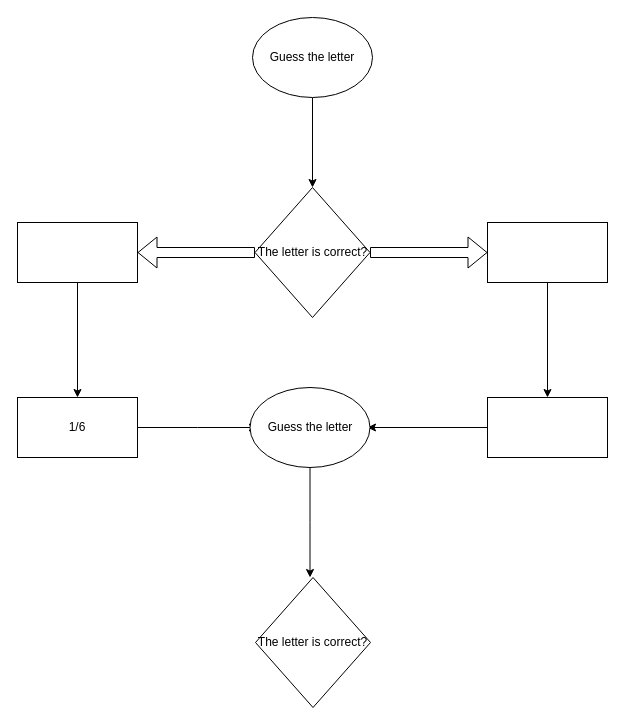
The diagram is 625 pixels wide and 725 high, and some of its shapes have lost their labels. Here are the shapes that lost their labels. From the top down, the box of each, then its label:
(16, 222, 138, 282): Yes
(486, 222, 608, 282): No
(486, 396, 608, 458): You lose one life!
